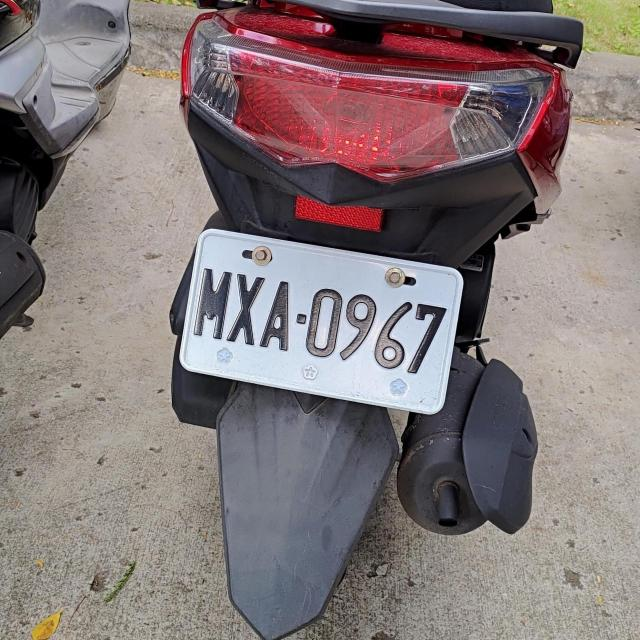W: (180, 231, 467, 409)
